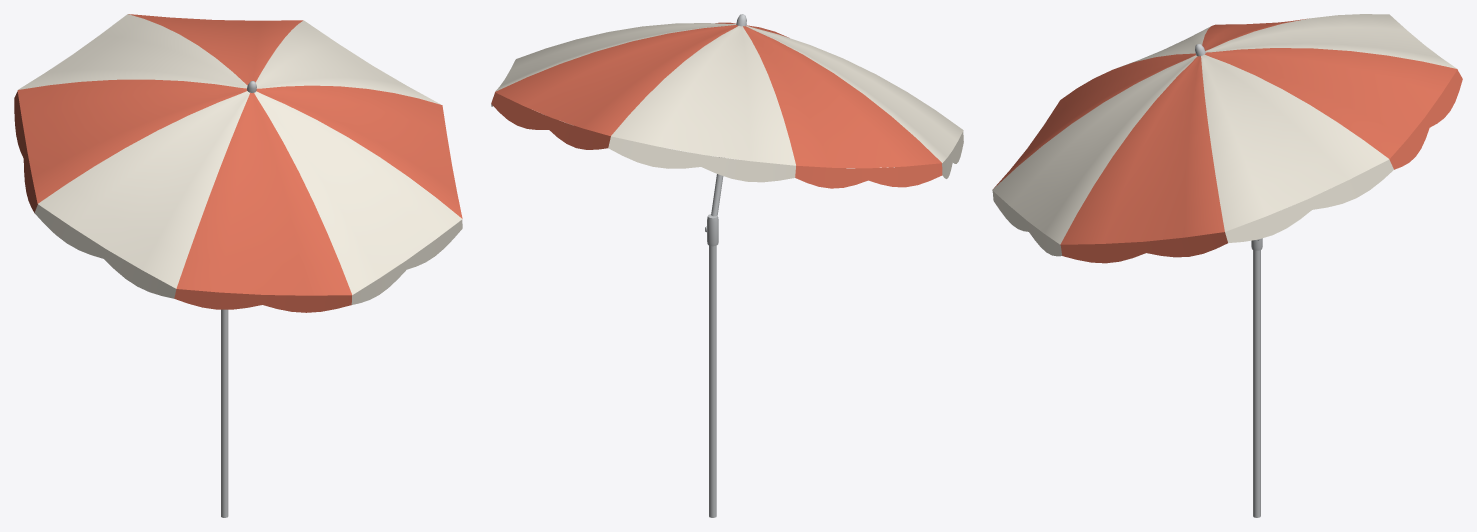
File: umbrella_b.glb
3 views of the same model, side by side, from view 1: azimuth 30°, elevation 25°; view 2: azimuth 150°, elevation 25°; view 3: azimuth 270°, elevation 25° (orthographic). The views are drawn at different scales.
Parts seen in each view (by area): view 1: umbrella_b; view 2: umbrella_b; view 3: umbrella_b.
Part boxes in pixels (left/top/right/bottom): umbrella_b: left=14, top=14, right=462, bottom=517; umbrella_b: left=491, top=14, right=963, bottom=517; umbrella_b: left=992, top=14, right=1462, bottom=517.
Bounding box in the file's own units: 2.02 × 2.15 × 1.94.
